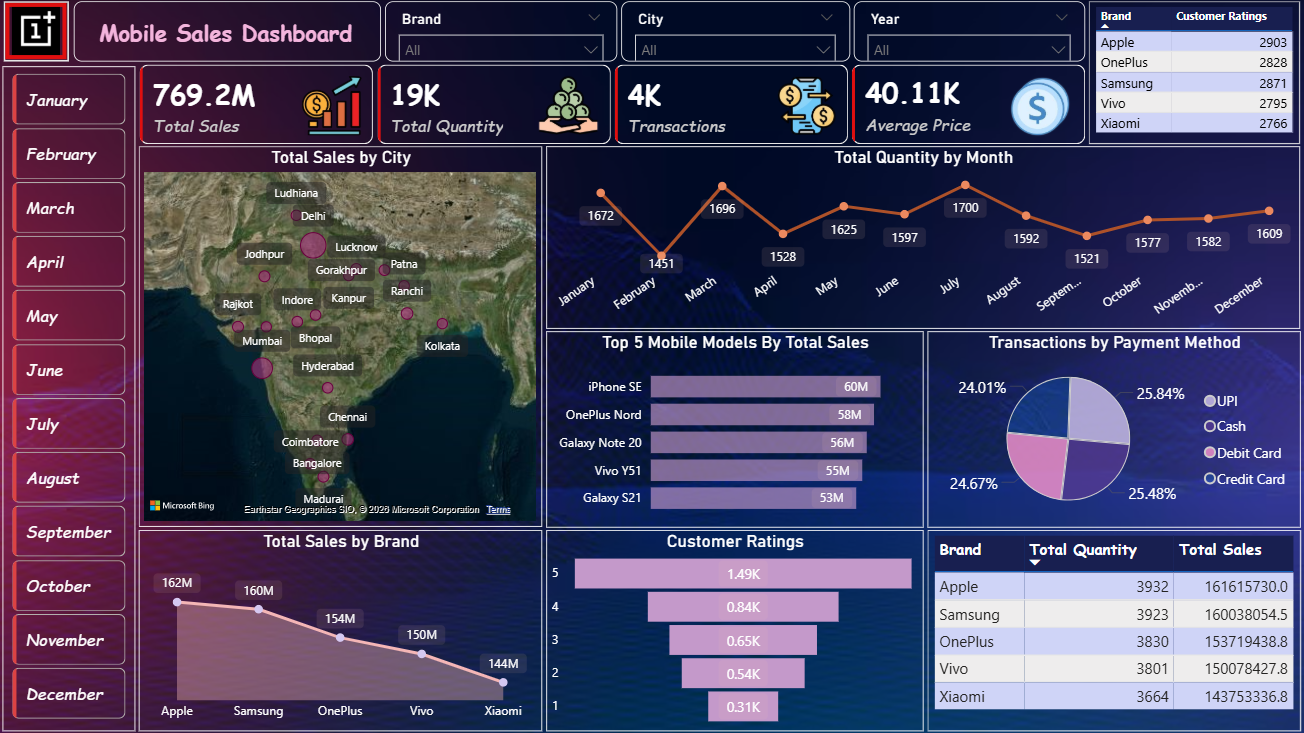

The page's visual inventory and layout, read from the dashboard file:
{"tool":"powerbi","page":{"name":"Final Dashboard","canvas":[1280,720],"ordinal":0},"visuals":[{"type":"image","box":[3.7,1.2,63.8,58.9],"z":0},{"type":"shape","box":[2.5,65,130.1,652.8],"z":1000},{"type":"advancedSlicerVisual","fields":{"Values":["Sales_Data.Date.Variation.Date Hierarchy.Month"]},"box":[7.4,67.5,121.5,645.4],"z":2000},{"type":"shape","title":"Mobile Sales Dashboard","box":[72.4,1.2,301.8,58.9],"z":3000},{"type":"textbox","box":[84.7,12.3,273.6,51.5],"z":4000},{"type":"cardVisual","fields":{"Data":["Sales_Data.Total Sales","Sales_Data.Total Quantity","Sales_Data.Total Transactions","Sales_Data.Average Price"]},"box":[120.2,46.6,958.3,112.9],"z":5000},{"type":"map","fields":{"Category":["Sales_Data.City"],"Size":["Sales_Data.Total Sales"]},"box":[136.2,143.8,396.2,373.8],"z":6000},{"type":"lineChart","fields":{"Y":["Sales_Data.Total Quantity"],"Category":["Sales_Data.Date.Variation.Date Hierarchy.Month","Sales_Data.Date.Variation.Date Hierarchy.Day"]},"box":[536.2,143.6,739.9,179.1],"z":7000},{"type":"barChart","title":"Top 5 Mobile Models By Total Sales","fields":{"Category":["Sales_Data.Mobile Model"],"Y":["Sales_Data.Total Sales"]},"box":[536.2,325,370,192.5],"z":8000},{"type":"pieChart","title":"Transactions by Payment Method","fields":{"Category":["Sales_Data.Payment Method"],"Y":["Sales_Data.Total Transactions"]},"box":[910,325,366.2,192.5],"z":9000},{"type":"funnel","title":" Customer Ratings","fields":{"Category":["Sales_Data.Customer Ratings"],"Y":["CountNonNull(Sales_Data.Customer Ratings)"]},"box":[536.2,520,370,197.5],"z":10000},{"type":"areaChart","fields":{"Category":["Sales_Data.Brand"],"Y":["Sales_Data.Total Sales"]},"box":[136.2,520,396.2,197.5],"z":11000},{"type":"tableEx","fields":{"Values":["Sales_Data.Brand","Sales_Data.Total Quantity","Sales_Data.Total Sales"]},"box":[910,520,366.2,197.5],"z":12000},{"type":"slicer","fields":{"Values":["Sales_Data.Brand"]},"box":[377.9,1.2,228.2,58.9],"z":13000},{"type":"tableEx","fields":{"Values":["Sales_Data.Brand","Sum(Sales_Data.Customer Ratings)"]},"box":[1068.7,1.2,207.4,139.9],"z":14000},{"type":"slicer","fields":{"Values":["Sales_Data.City"]},"box":[609.8,1.2,224.5,58.9],"z":15000},{"type":"slicer","fields":{"Values":["Sales_Data.Date.Variation.Date Hierarchy.Year"]},"box":[838,1.2,227,58.9],"z":16000}]}

Visuals, with their boxes in screenshot pixels (x1, y1, x2, y2), scaled from the page's 1280x720 canvas onto the 1304x733 screenshot:
image: [4,1,69,61]
shape: [3,66,135,731]
advancedSlicerVisual - Sales_Data.Date.Variation.Date Hierarchy.Month: [8,69,131,726]
"Mobile Sales Dashboard" shape: [74,1,381,61]
textbox: [86,13,365,65]
cardVisual - Sales_Data.Total Sales x Sales_Data.Total Quantity: [122,47,1099,162]
map - Sales_Data.City x Sales_Data.Total Sales: [139,146,542,527]
lineChart - Sales_Data.Total Quantity x Sales_Data.Date.Variation.Date Hierarchy.Month: [546,146,1300,329]
"Top 5 Mobile Models By Total Sales" barChart: [546,331,923,527]
"Transactions by Payment Method" pieChart: [927,331,1300,527]
" Customer Ratings" funnel: [546,529,923,730]
areaChart - Sales_Data.Brand x Sales_Data.Total Sales: [139,529,542,730]
tableEx - Sales_Data.Brand x Sales_Data.Total Quantity: [927,529,1300,730]
slicer - Sales_Data.Brand: [385,1,617,61]
tableEx - Sales_Data.Brand x Sum(Sales_Data.Customer Ratings): [1089,1,1300,144]
slicer - Sales_Data.City: [621,1,850,61]
slicer - Sales_Data.Date.Variation.Date Hierarchy.Year: [854,1,1085,61]
